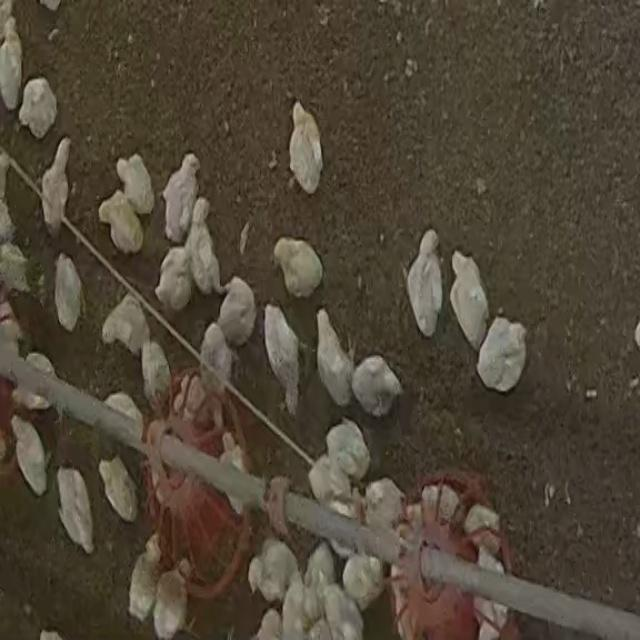chicken: (256, 308, 304, 412), (446, 247, 491, 351), (187, 197, 233, 292), (480, 310, 531, 393), (51, 466, 98, 556), (285, 104, 328, 201), (405, 228, 441, 342), (33, 137, 73, 238), (39, 254, 95, 325), (160, 146, 200, 245), (322, 316, 360, 413), (204, 318, 250, 398), (313, 489, 370, 553), (364, 478, 412, 550), (110, 391, 158, 463), (12, 412, 53, 496), (260, 540, 308, 611), (96, 446, 142, 520), (319, 415, 371, 479), (131, 340, 176, 412), (281, 237, 328, 299), (221, 283, 259, 351), (352, 361, 393, 422), (100, 198, 140, 260), (0, 26, 28, 112), (107, 300, 147, 360), (292, 586, 335, 640), (1, 247, 36, 310), (24, 349, 62, 406), (345, 546, 381, 606), (155, 250, 189, 310), (0, 162, 26, 240), (323, 587, 359, 640), (23, 77, 53, 135), (110, 160, 144, 210), (299, 550, 333, 594), (314, 451, 342, 500), (258, 598, 286, 640), (0, 1, 8, 25)
